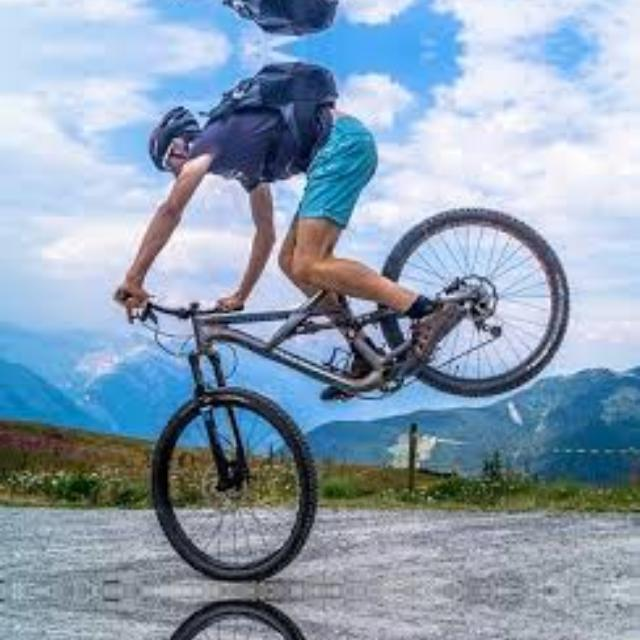obstacle: (90, 234, 566, 566), (90, 615, 566, 640)
